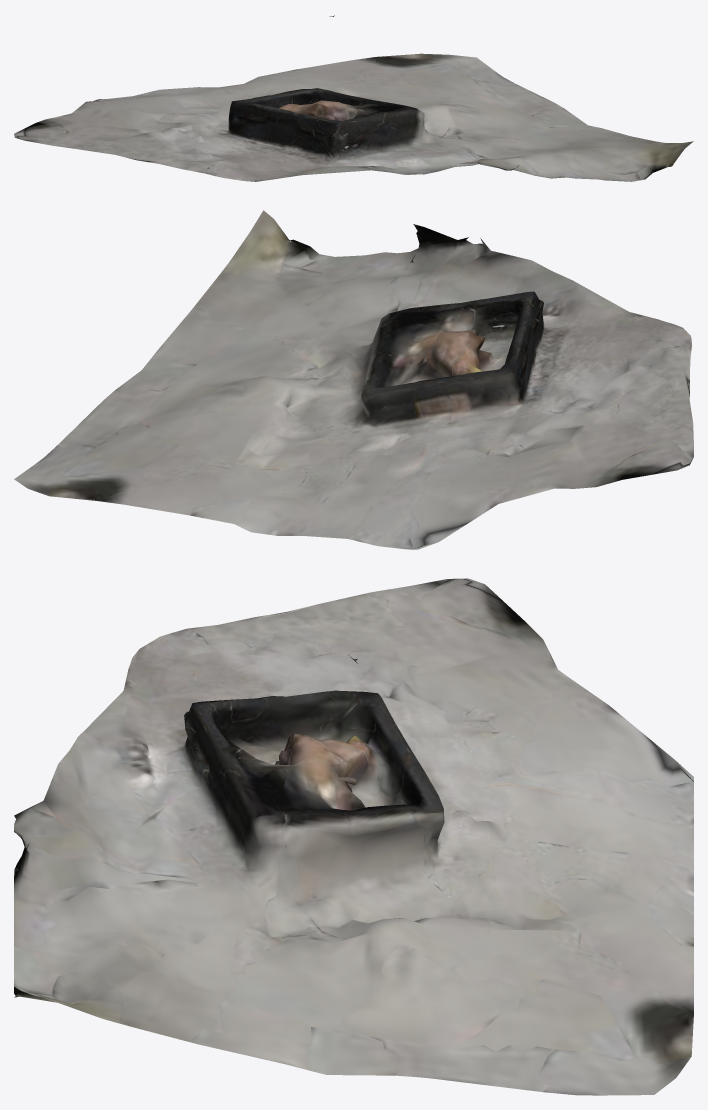
Rendered from hall.glb.
3 renders of one model, top to bottom at view 1: azimuth 30°, elevation 25°; view 2: azimuth 150°, elevation 25°; view 3: azimuth 270°, elevation 25°, orthographic. The views are drawn at different scales.
Bounding box in the file's own units: 3.21 × 1.07 × 2.44.
Materials: 1 (1 with a texture image).
